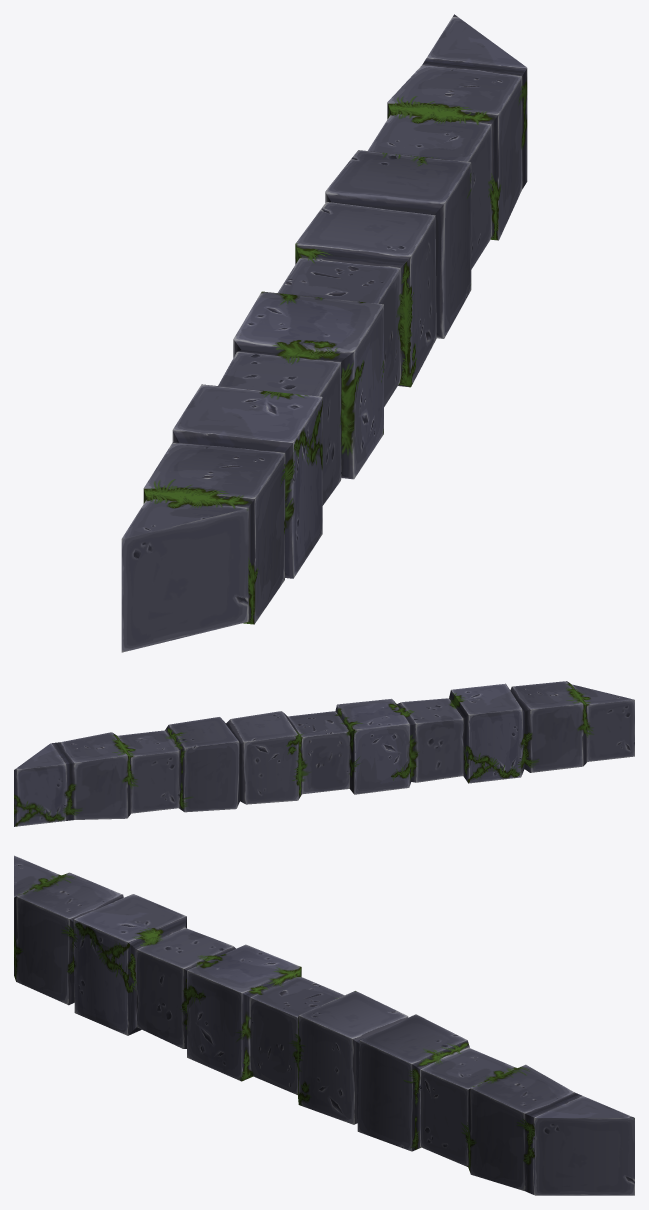
File: MOD_WallCover_01_M_angle.fbx
3 renders of one model, top to bottom at view 1: azimuth 30°, elevation 25°; view 2: azimuth 150°, elevation 25°; view 3: azimuth 270°, elevation 25°, orthographic. The views are drawn at different scales.
Parts seen in each view (by area): view 1: MOD_WallCover_01_M_angle; view 2: MOD_WallCover_01_M_angle; view 3: MOD_WallCover_01_M_angle.
Part boxes in pixels (box(x1,y1,x2,y2)): MOD_WallCover_01_M_angle: box(121, 14, 527, 652); MOD_WallCover_01_M_angle: box(14, 681, 634, 826); MOD_WallCover_01_M_angle: box(14, 855, 634, 1195).
Bounding box in the file's own units: 435 × 72.35 × 435.
